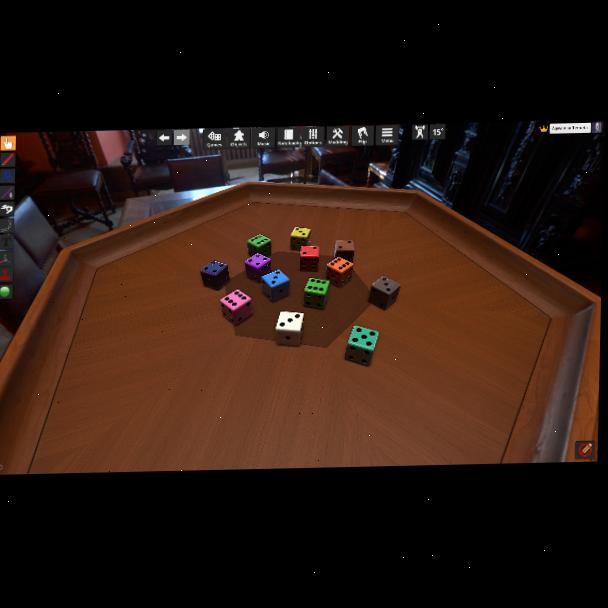d6: (344, 324, 378, 365), (219, 289, 253, 326), (368, 276, 400, 311), (261, 269, 290, 303), (199, 260, 229, 292), (275, 311, 302, 346), (326, 256, 354, 287), (303, 278, 330, 310), (244, 253, 272, 283), (246, 234, 271, 258), (333, 240, 355, 264), (300, 246, 320, 272), (290, 227, 309, 251)
